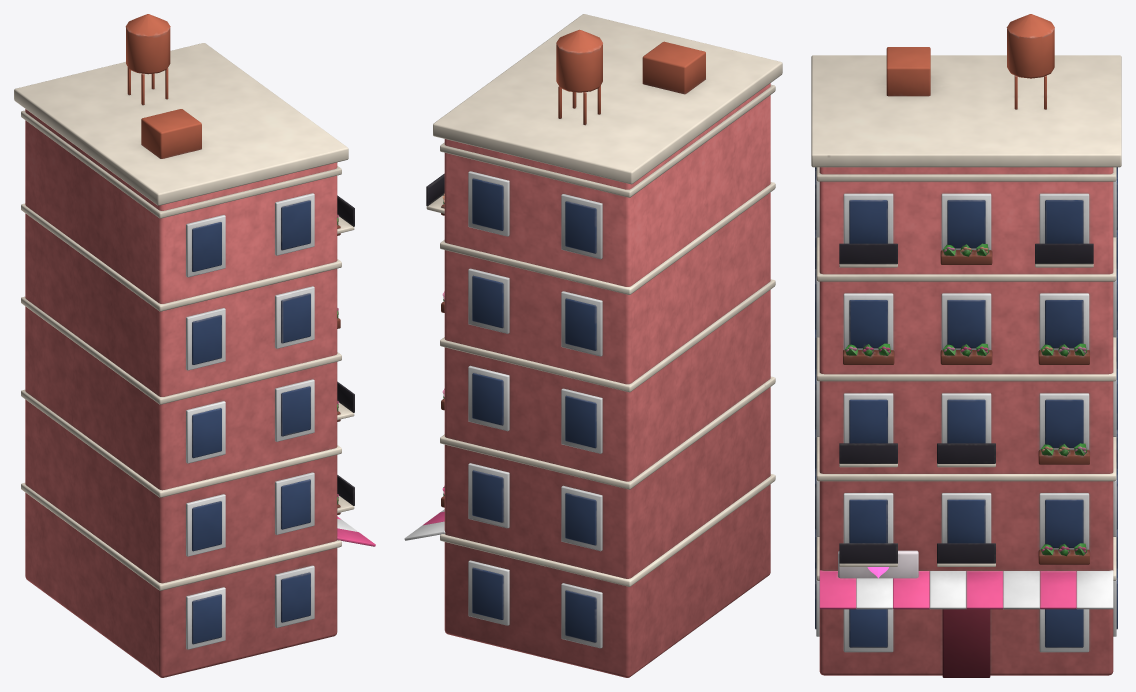
Rendered from rc_building_e.glb.
The picture shows the model from 3 angles, left to right: view 1: azimuth 30°, elevation 25°; view 2: azimuth 150°, elevation 25°; view 3: azimuth 270°, elevation 25°; orthographic projection. The views are drawn at different scales.
Parts seen in each view (by area): view 1: rc_building_e; view 2: rc_building_e; view 3: rc_building_e.
Boxes of the visible parts, box(x1,y1,x2,y2) form: rc_building_e: box(14, 14, 375, 677); rc_building_e: box(404, 14, 782, 677); rc_building_e: box(811, 14, 1121, 677).
Bounding box in the file's own units: 7.48 × 18.45 × 8.45.
17 materials, 17 textured.
